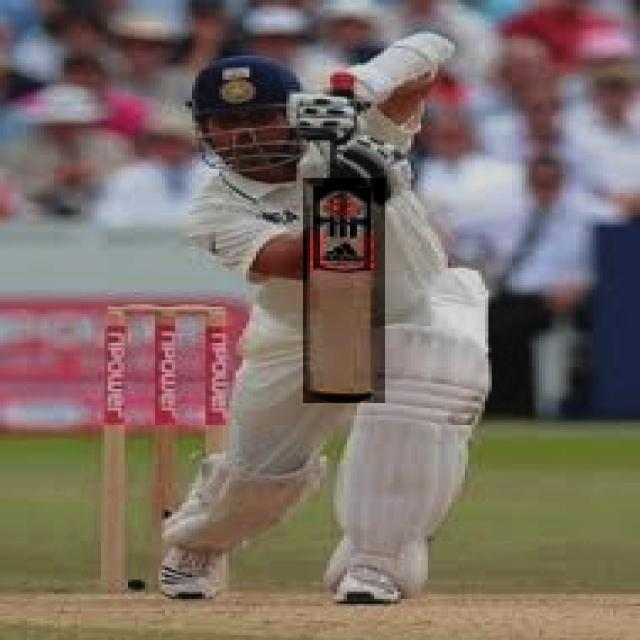bat: (304, 181, 386, 405)
toe: (308, 386, 370, 405)
